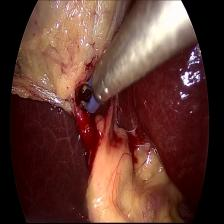Bipolar: (76, 46, 123, 128)
